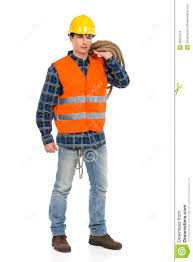hard hat: (66, 16, 97, 34)
high-vis: (52, 51, 108, 131)
